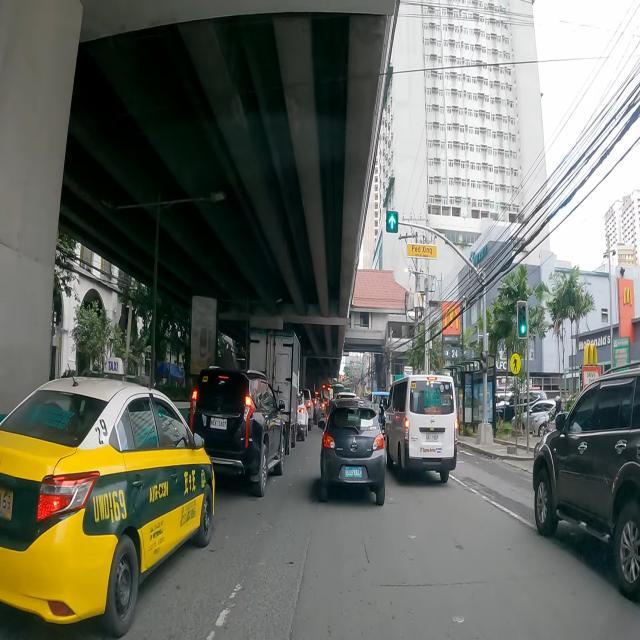car: (0, 354, 214, 636), (533, 366, 640, 601), (187, 366, 286, 496), (384, 374, 458, 482), (319, 398, 386, 505)
truck: (247, 327, 301, 452)
